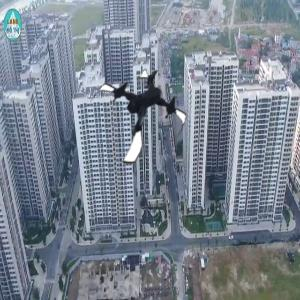drone: (88, 65, 190, 167)
